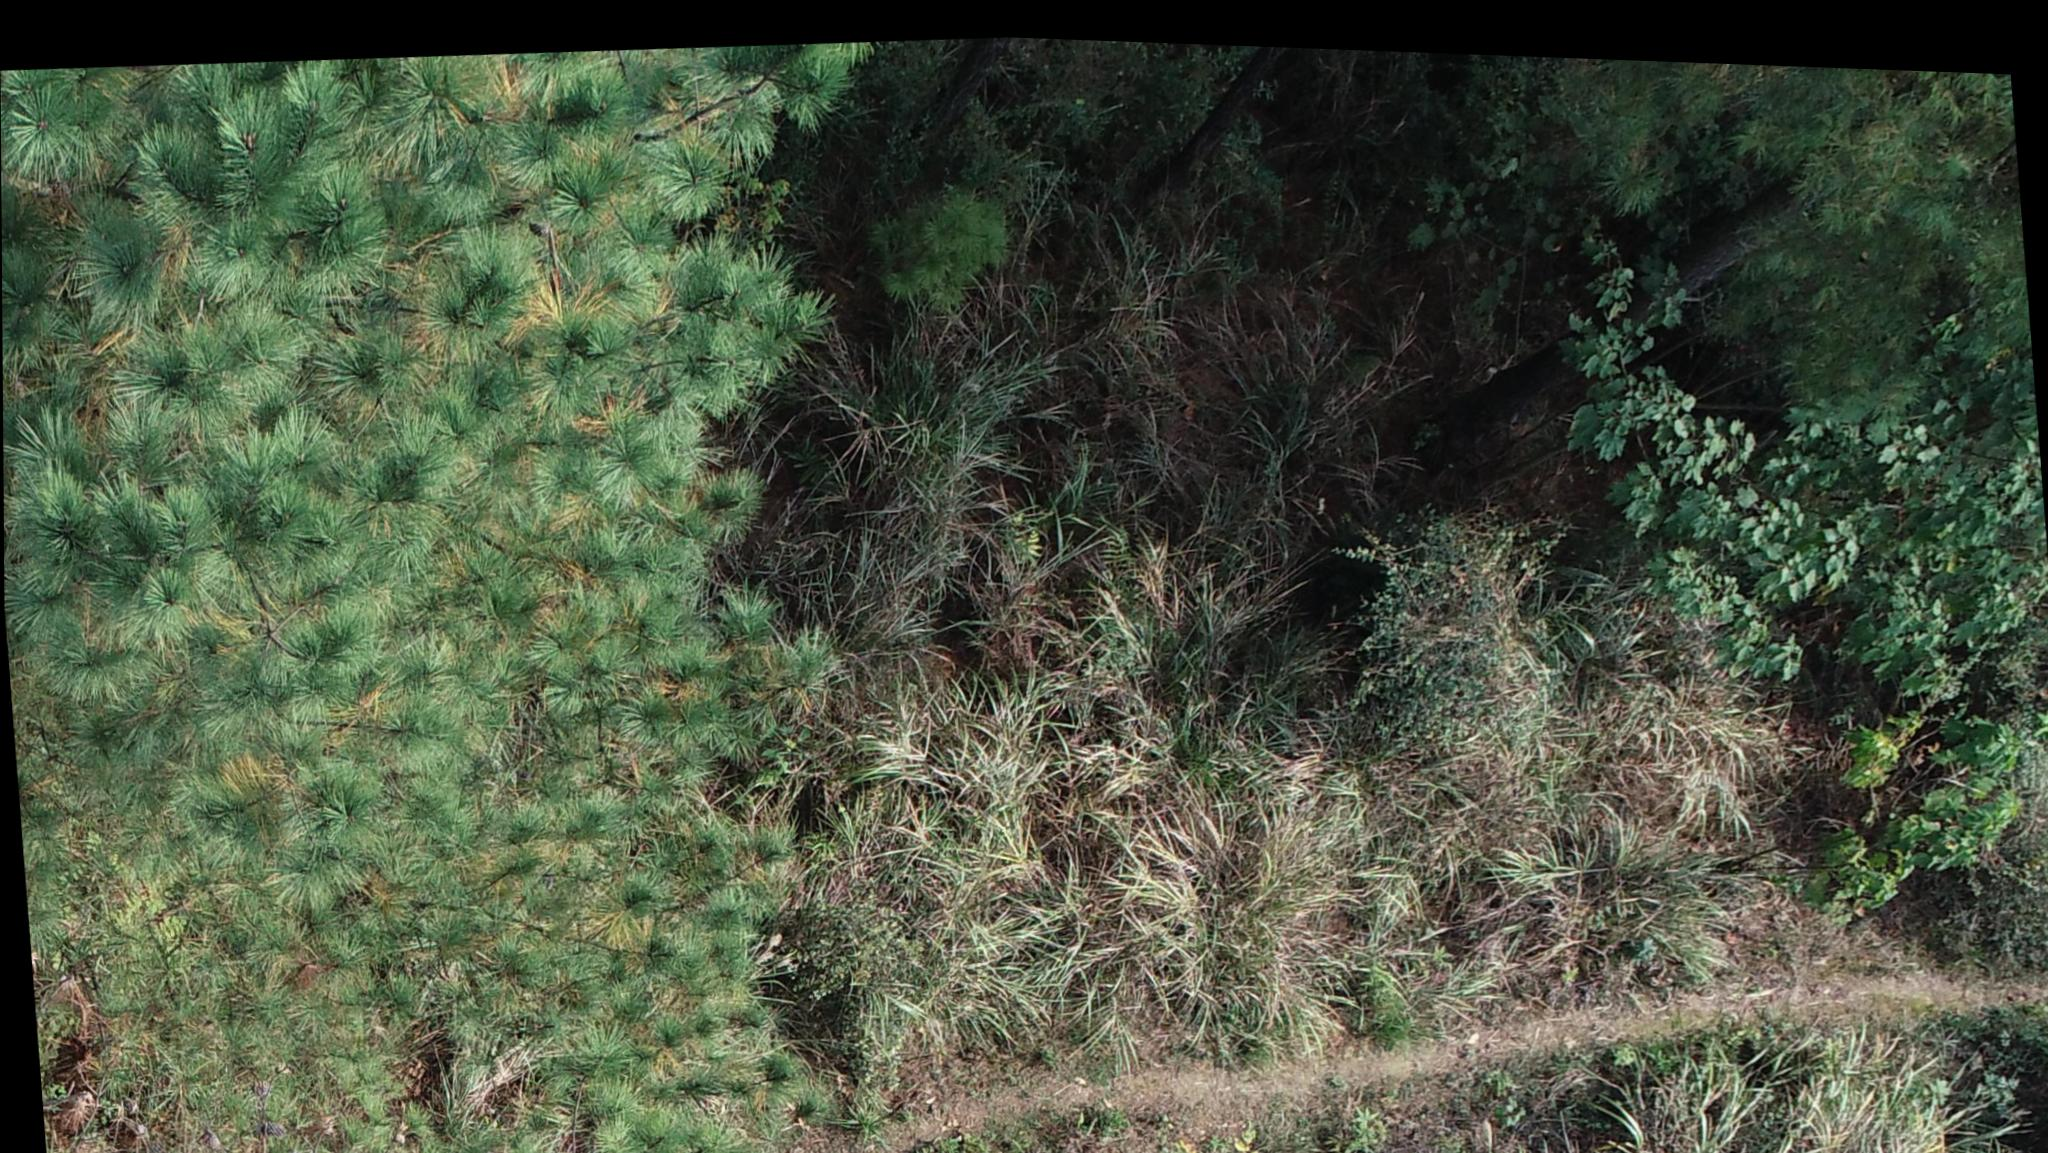light: (0, 20, 792, 1126)
